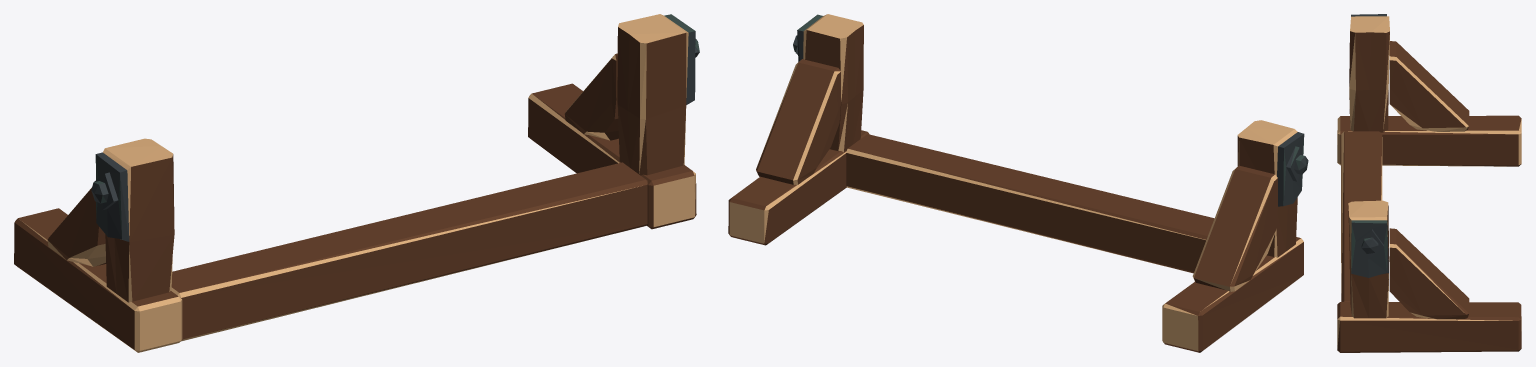
The model's file is MCastle_PortculisMech_Frame_01.FBX.
3 views of the same model, side by side, from view 1: azimuth 30°, elevation 25°; view 2: azimuth 150°, elevation 25°; view 3: azimuth 270°, elevation 25° (orthographic). The views are drawn at different scales.
Parts seen in each view (by area): view 1: MCastle_PortculisMech_Frame_01_LOD0; view 2: MCastle_PortculisMech_Frame_01_LOD0; view 3: MCastle_PortculisMech_Frame_01_LOD0.
Boxes of the visible parts, x1=… form: MCastle_PortculisMech_Frame_01_LOD0: x1=14, y1=14, x2=699, y2=352; MCastle_PortculisMech_Frame_01_LOD0: x1=728, y1=14, x2=1308, y2=352; MCastle_PortculisMech_Frame_01_LOD0: x1=1337, y1=14, x2=1521, y2=352.
Size of what is drawn, in the model's own units: 7.26 by 2.1 by 2.58.
